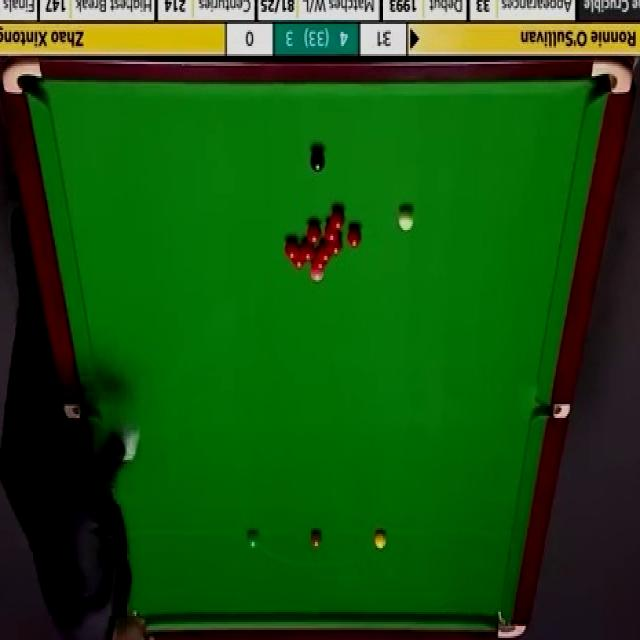pocket: (2, 57, 44, 97), (591, 60, 633, 97), (495, 606, 531, 640), (62, 405, 103, 420), (535, 405, 573, 420)
